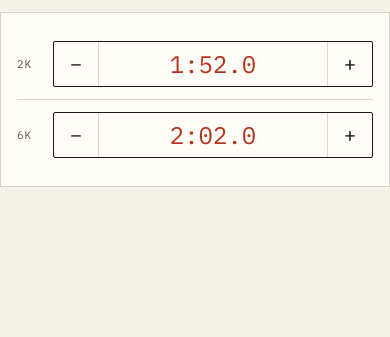
Test: BaselineEditor › keeps the draft and surfaces an error when save is rejected
Type "151" into the field named "2k split" at (213, 64), box top-left (107, 42), bottom-right (319, 86)
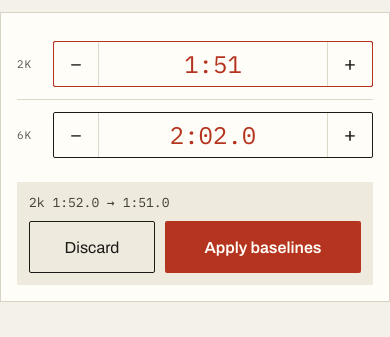
Click the button "Apply baselines" at (263, 247), box top-left (165, 221), bottom-right (361, 273)
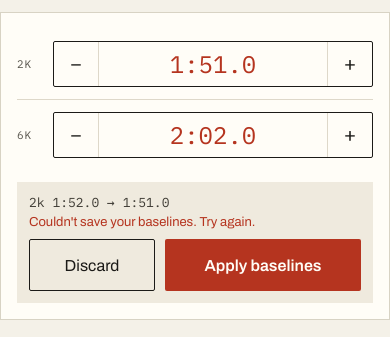
Check: the text "2k 1:52.0 → 1:51.0" is shown, box top-left (29, 194), bottom-right (170, 211)
Check: the text "Couldn't save your baselines. Try again." is shown, box top-left (29, 215), bottom-right (255, 229)
